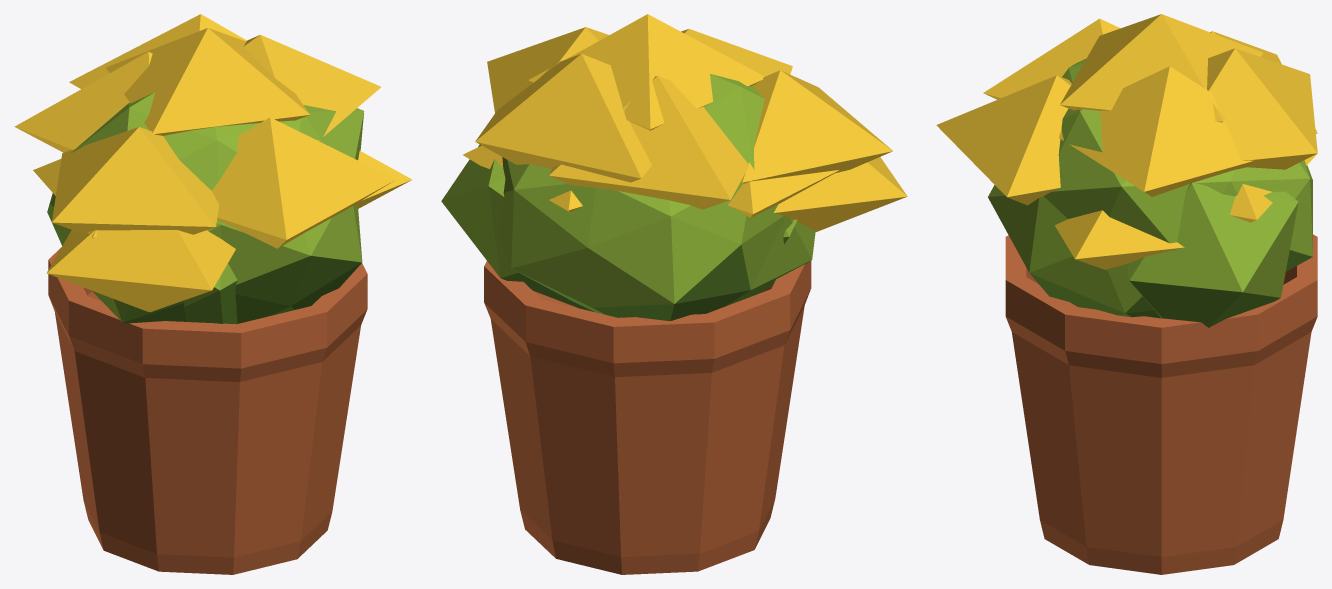
Rendered from SM_Street_Pot_Round_No3_FlowerYellow_01.gltf.
3 renders of one model, left to right at view 1: azimuth 30°, elevation 25°; view 2: azimuth 150°, elevation 25°; view 3: azimuth 270°, elevation 25°, orthographic. The views are drawn at different scales.
Parts seen in each view (by area): view 1: SM_Street_Pot_Round_No3_FlowerYellow_01; view 2: SM_Street_Pot_Round_No3_FlowerYellow_01; view 3: SM_Street_Pot_Round_No3_FlowerYellow_01.
Boxes of the visible parts, left/top/right/bottom form: SM_Street_Pot_Round_No3_FlowerYellow_01: left=14, top=14, right=412, bottom=574; SM_Street_Pot_Round_No3_FlowerYellow_01: left=441, top=14, right=907, bottom=574; SM_Street_Pot_Round_No3_FlowerYellow_01: left=936, top=14, right=1317, bottom=574.
Size of the model in its own units: 0.1207 by 0.1539 by 0.1046.
1 material, 1 textured.
